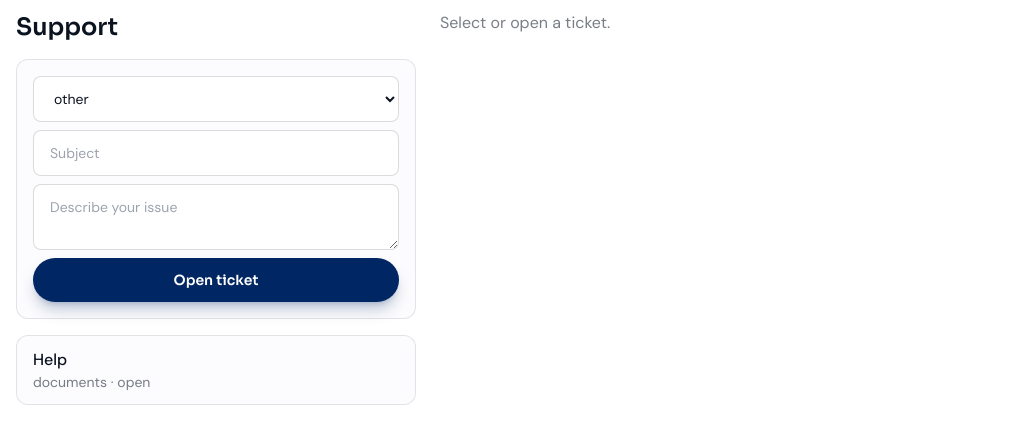
Test: SupportPage › lists tickets and opens a thread
The width and height of the screenshot is (1020, 422).
What coordinates should you click on to do the following:
click the text "Help"
I would click on:
 (50, 360)
Its box is 33,349 -> 67,370.
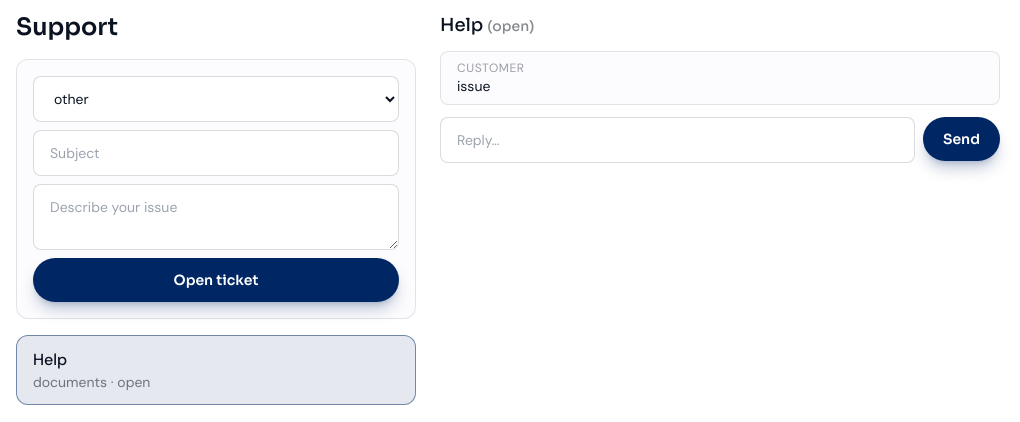
Expected: the text "issue" is shown, 457,77 -> 490,95
